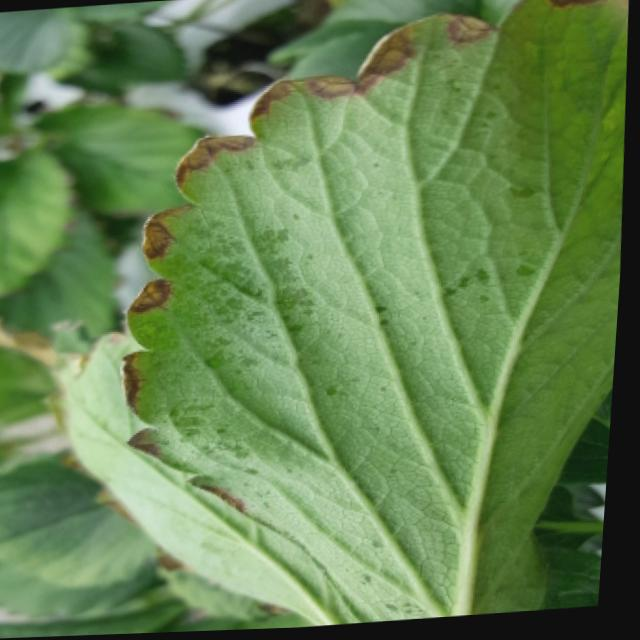Angular Leafspot: (124, 0, 629, 626)
